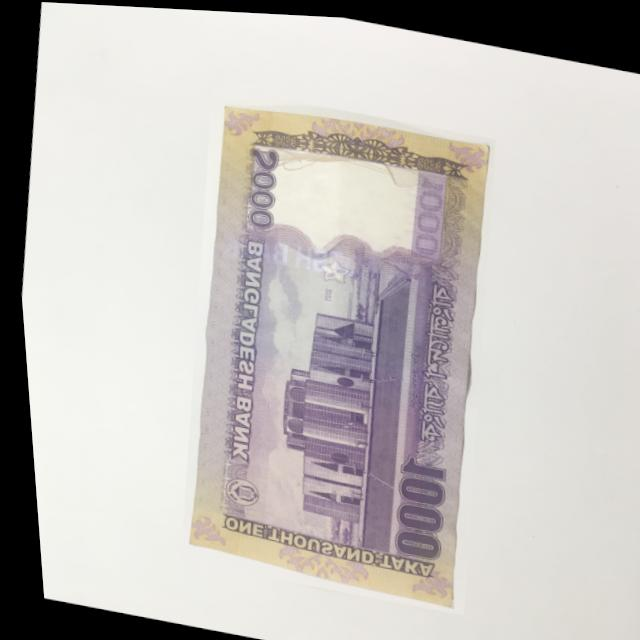Taka: (144, 80, 522, 613)
